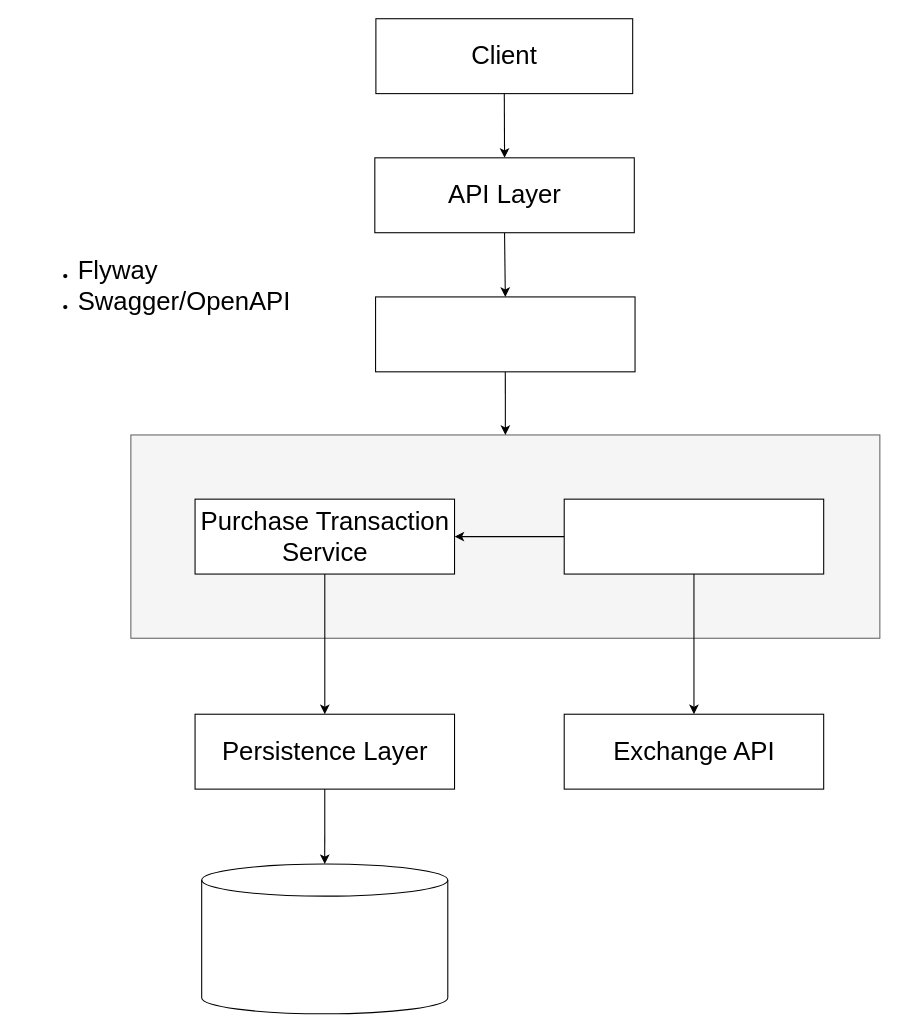
This 899x1033 diagram has some shape labels left out. The box of each missing label's shape, as (x1, y1, x2, y2) in pixels:
Currency Conversion Service: (563, 498, 824, 574)
PostgreSQL DB: (201, 863, 448, 1014)
Validation & Error Handling: (374, 296, 635, 372)
